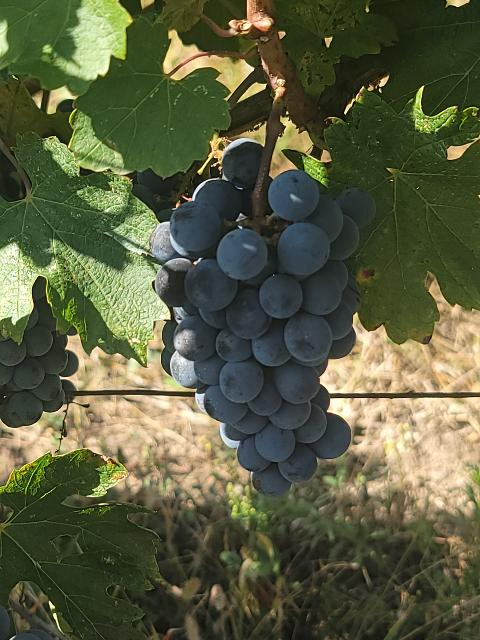grapes: (150, 140, 376, 498)
